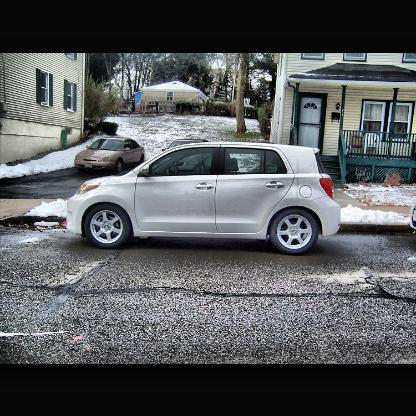Scion xD Hatchback 2012: (65, 140, 344, 253)
